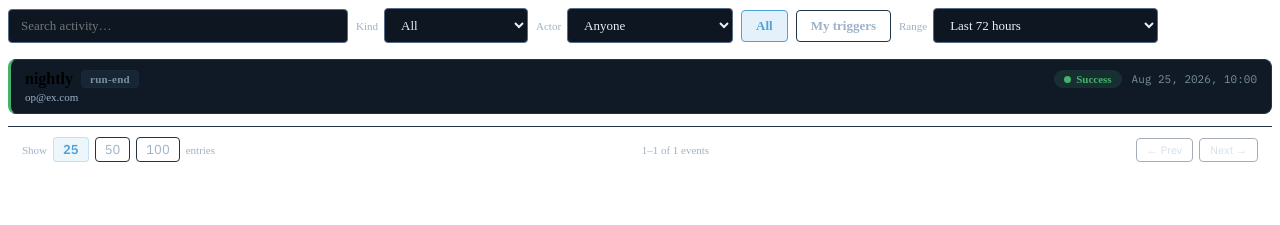
it: Activity — custom range (AS-2) › reveals the two inputs only when the custom range is chosen
Expected: the text "nightly" is shown, [25,70,73,88]
Select "Custom range…" in the dropdown named "Time range": (1046, 26) [933,8,1158,43]
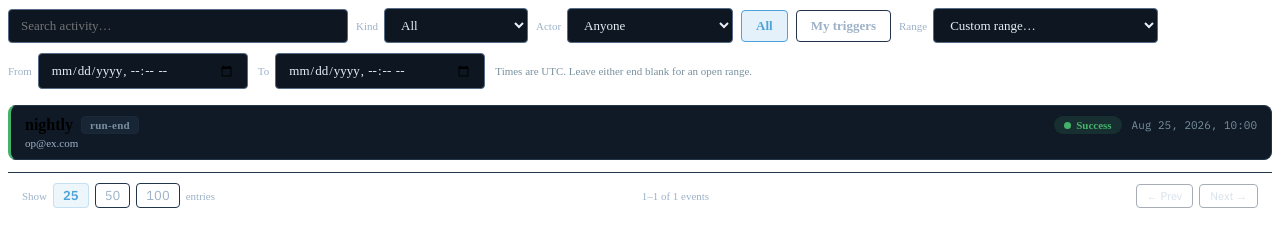
Now the field named "Range start" is shown, box [38,53,248,89]
Now the field named "Range end" is shown, box [275,53,485,89]
